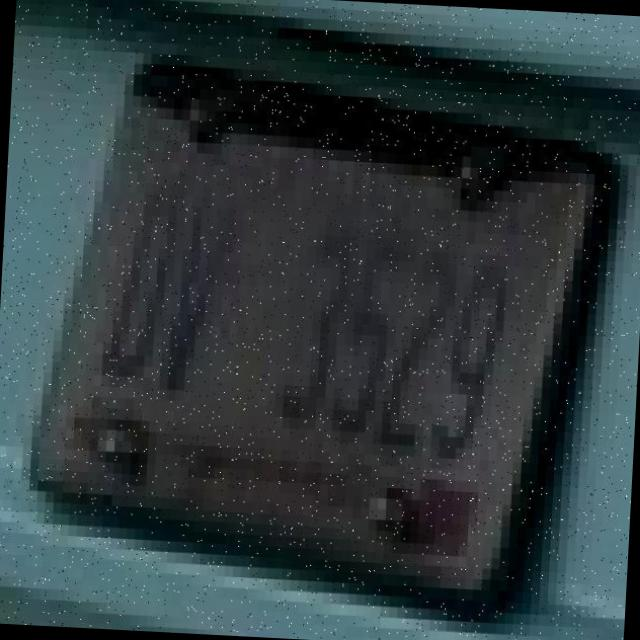LicensePlate: (34, 14, 597, 633)
